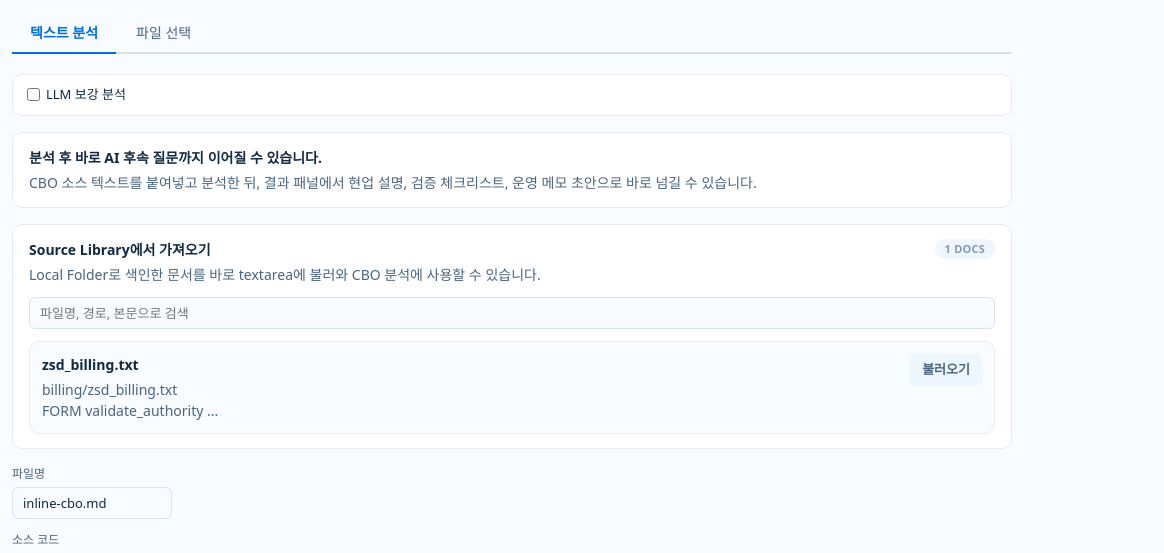
Test: CboPage (AnalysisMode 래퍼) › 파일 선택 탭으로 전환하면 파일 분석 버튼이 표시된다
Click the tab "파일 선택".
click(164, 33)  # box [118,12,209,54]
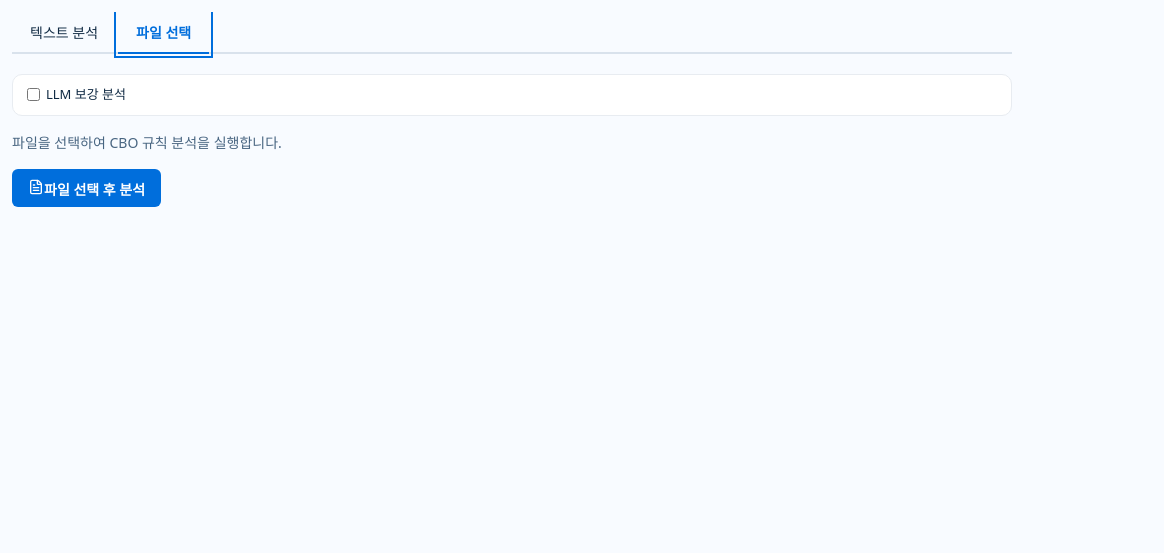
Result: the text "파일 선택 후 분석" is shown at [28,178,145,196]
